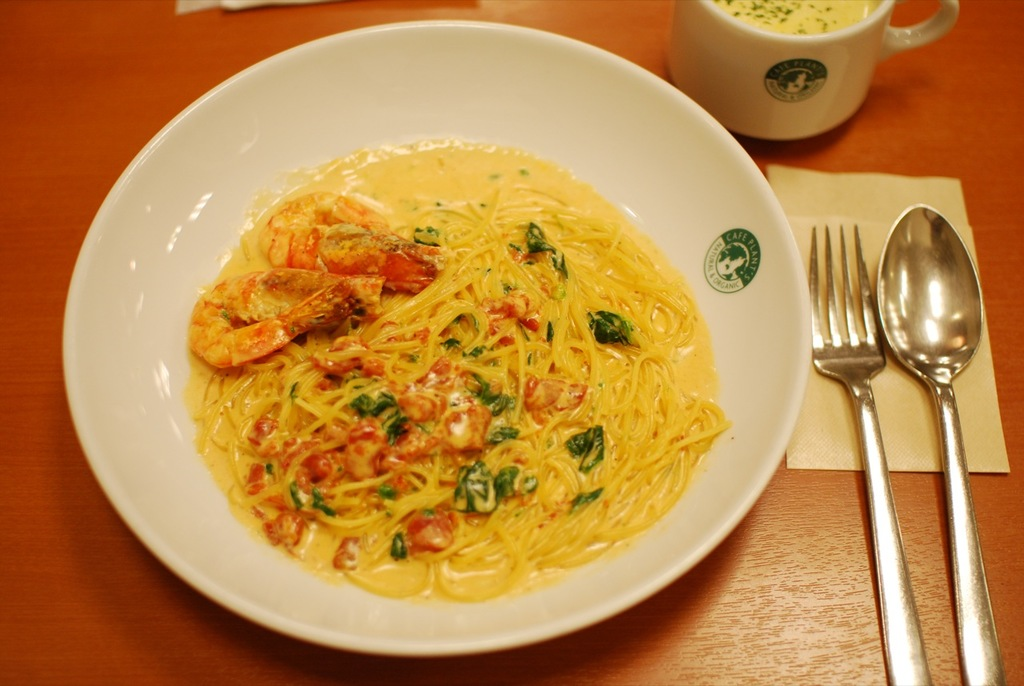pasta: (194, 192, 729, 604)
